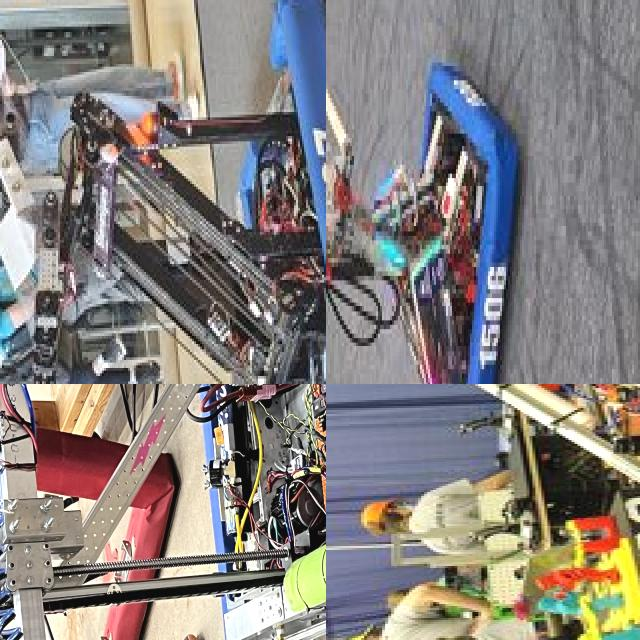FRC-Robots: (0, 0, 326, 384), (0, 384, 326, 640), (326, 11, 527, 384), (326, 384, 640, 620)
